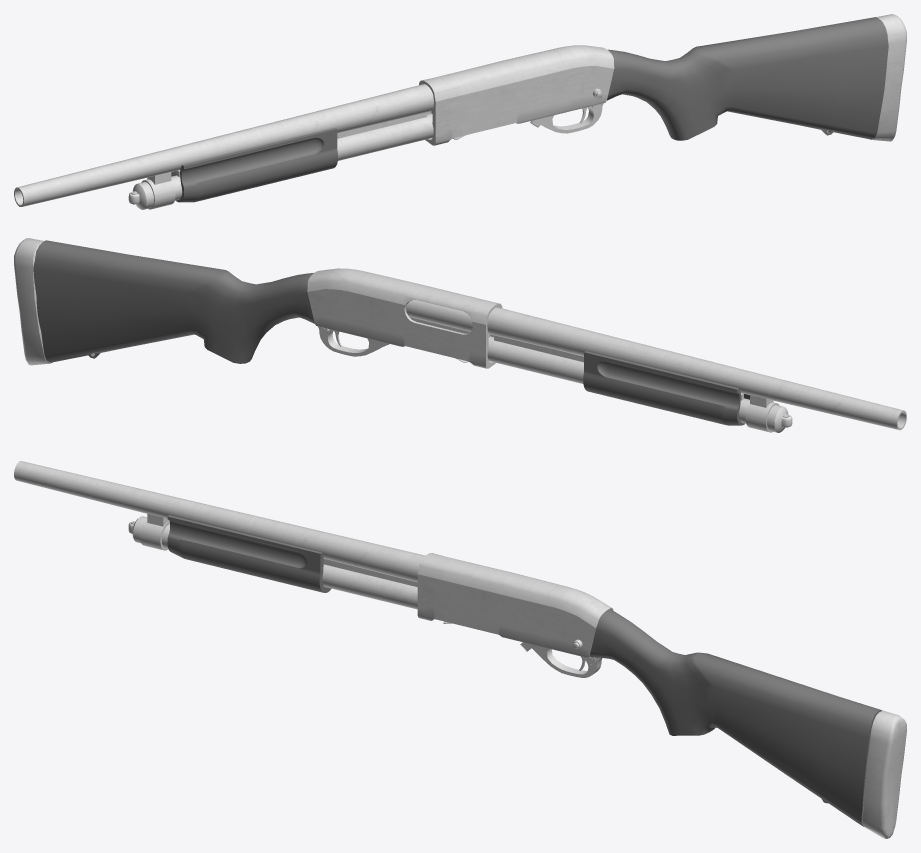
The picture shows the model from 3 angles, top to bottom: view 1: azimuth 30°, elevation 25°; view 2: azimuth 150°, elevation 25°; view 3: azimuth 330°, elevation 25°; orthographic projection.
Parts seen in each view (by area): view 1: Stock1, Body1, Barrel1, MeshesimportMiscm870mo005m870md0051, MagazineTube1, Buttplate1, BarrelSupport1, TriggerGuard1, MeshesimportMiscsawnoffm870mo003sawnoffm870md0031; view 2: Stock1, Body1, Barrel1, MeshesimportMiscm870mo005m870md0051, MagazineTube1, Buttplate1, MeshesimportMiscsawnoffm870mo005sawnoffm870md0051, BarrelSupport1, TriggerGuard1, MeshesimportMiscsawnoffm870mo003sawnoffm870md0031; view 3: Stock1, Body1, Barrel1, MeshesimportMiscm870mo005m870md0051, Buttplate1, MagazineTube1, TriggerGuard1, BarrelSupport1.
Part boxes in pixels (x1,y1,x2,y2): Stock1: (607,17,888,140); Body1: (419,45,614,145); Barrel1: (14,84,433,206); MeshesimportMiscm870mo005m870md0051: (171,128,337,202); MagazineTube1: (132,113,433,209); Buttplate1: (871,14,906,141); BarrelSupport1: (141,172,175,209); TriggerGuard1: (516,103,603,133); MeshesimportMiscsawnoffm870mo003sawnoffm870md0031: (176,112,426,177); Stock1: (33,240,314,363); Body1: (307,268,502,368); Barrel1: (487,307,906,430); MeshesimportMiscm870mo005m870md0051: (583,351,749,425); MagazineTube1: (487,336,788,432); Buttplate1: (14,238,52,365); MeshesimportMiscsawnoffm870mo005sawnoffm870md0051: (406,300,472,331); BarrelSupport1: (745,395,779,432); TriggerGuard1: (318,326,404,356); MeshesimportMiscsawnoffm870mo003sawnoffm870md0031: (494,335,743,400); Stock1: (589,609,882,826); Body1: (417,553,613,657); Barrel1: (14,461,425,582); MeshesimportMiscm870mo005m870md0051: (167,515,331,592); Buttplate1: (862,710,906,838); MagazineTube1: (132,516,417,609); TriggerGuard1: (532,645,602,677); BarrelSupport1: (139,513,169,550).
Size of the model in its own units: 5.15 by 0.9555 by 0.225.
5 materials, 5 textured.
